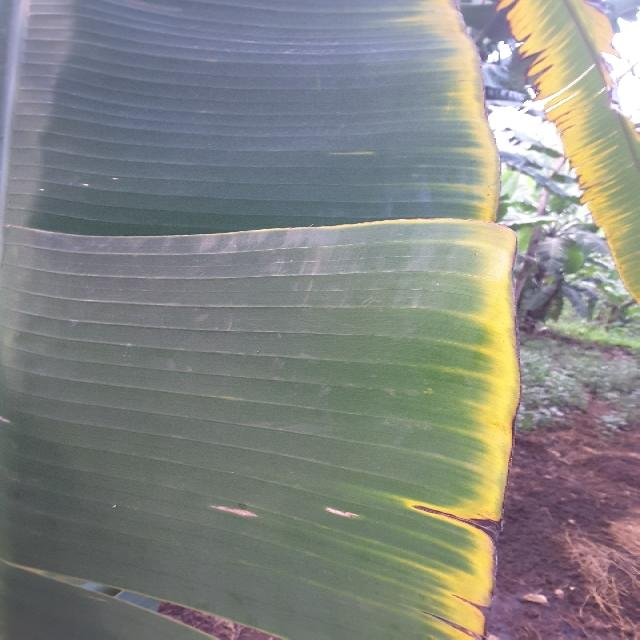Cordana: (337, 0, 640, 640)
